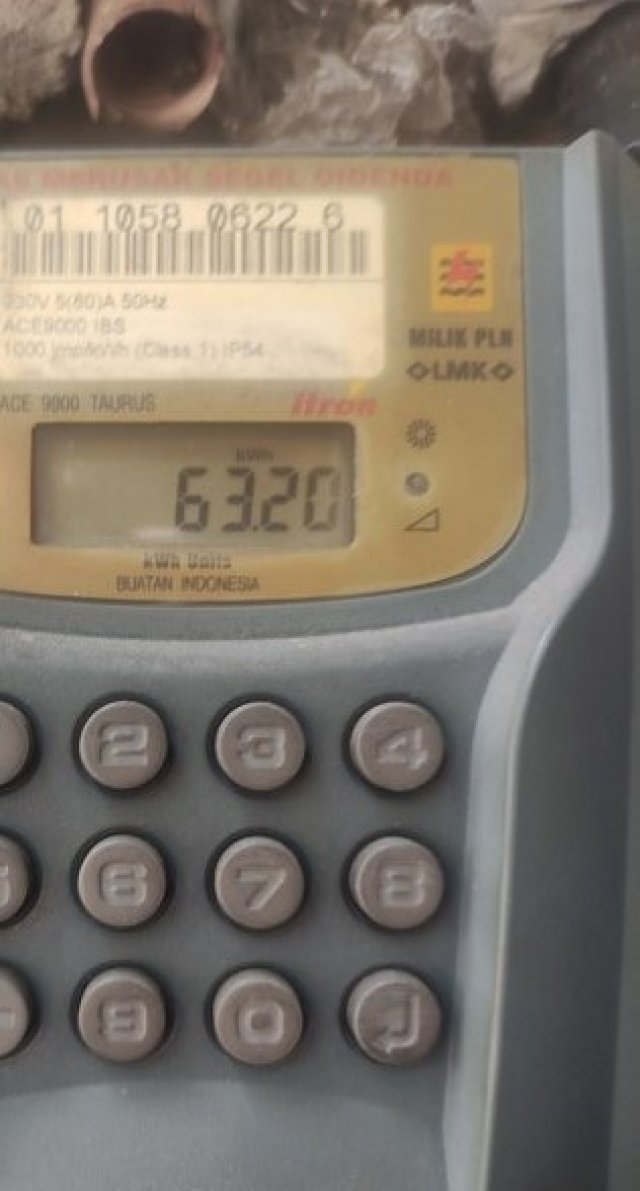box: (27, 421, 354, 551)
